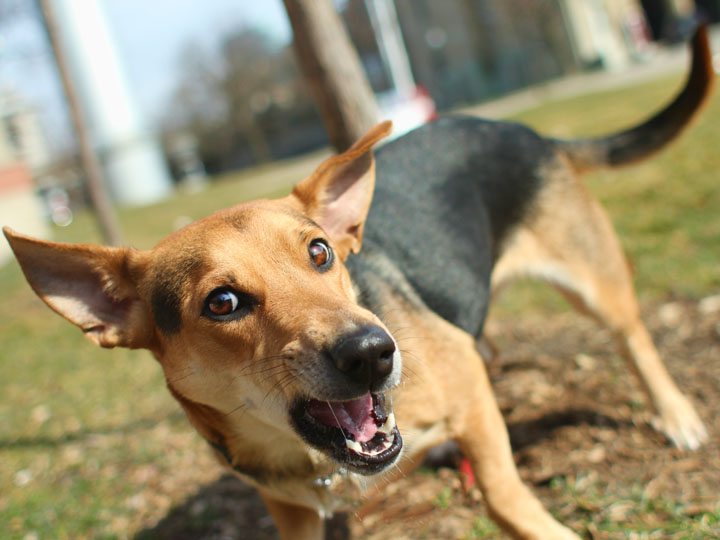dog: (13, 24, 720, 540)
